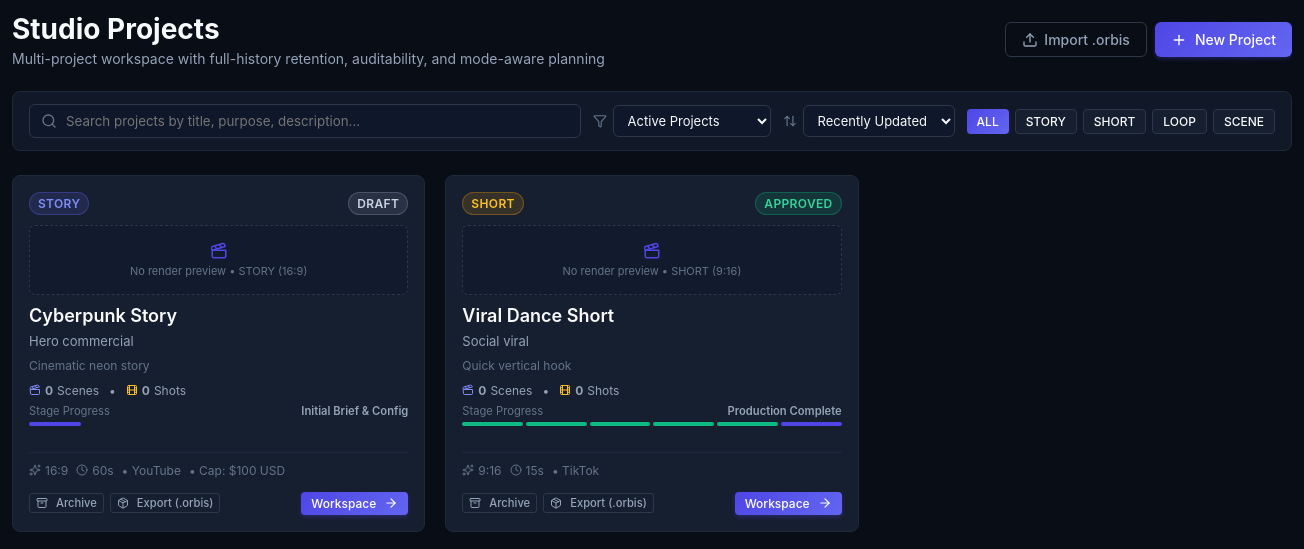
Test: ProjectDashboard › filters projects by mode chips
Click the button with test id "mode-filter-short".
click(1115, 121)  # box [1083, 108, 1146, 134]
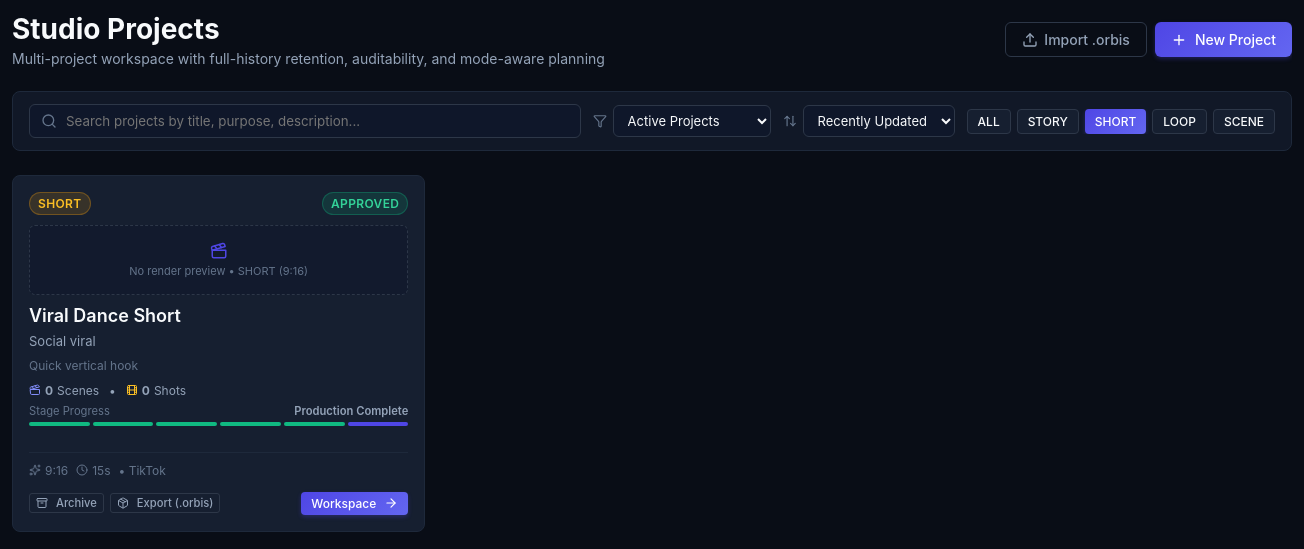
Expected: the heading "Viral Dance Short" is shown, [29, 305, 181, 326]
Result: the heading "Cyberpunk Story" is gone
